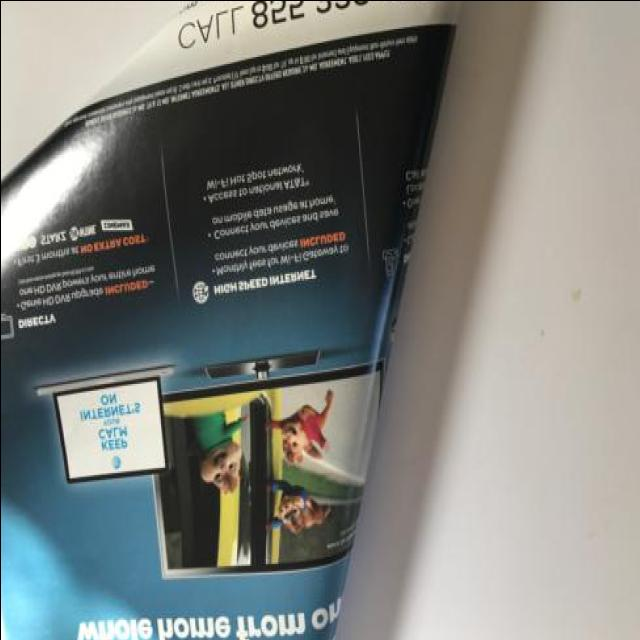kertas: (0, 0, 463, 640)
